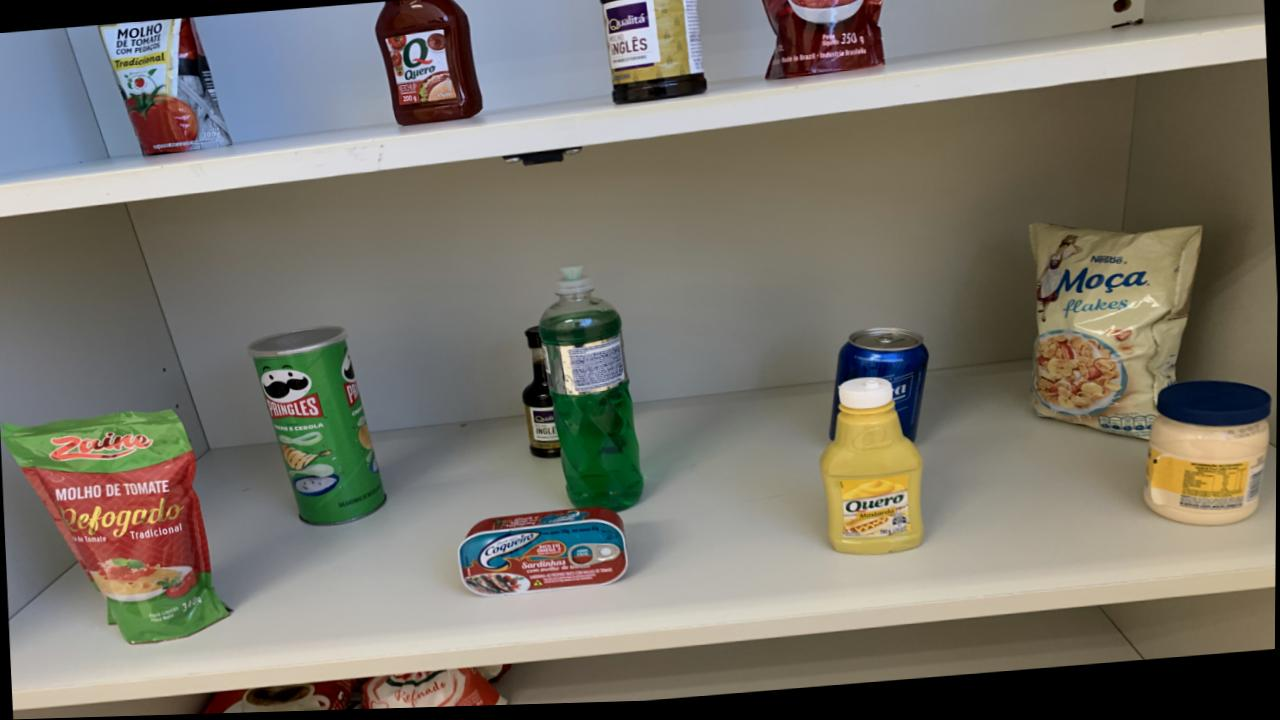Detergent-Cleanup_Items: (539, 271, 645, 516)
English_Sauce-Pantry_Items: (599, 0, 706, 108), (522, 330, 561, 462)
Flakes-Snacks: (1029, 230, 1202, 446)
Ketchup-Pantry_Items: (375, 0, 482, 128)
Mayonnaise-Pantry_Items: (1144, 388, 1271, 533)
Mustard-Pantry_Items: (821, 382, 923, 560)
Pringles-Snacks: (250, 328, 387, 527)
Tomato_Sauce-Pantry_Items: (3, 411, 229, 644), (99, 19, 230, 155), (760, 0, 884, 84)
Tonic-Drinks: (830, 332, 929, 446)
Tuna_Can-Pantry_Items: (457, 511, 628, 600)
